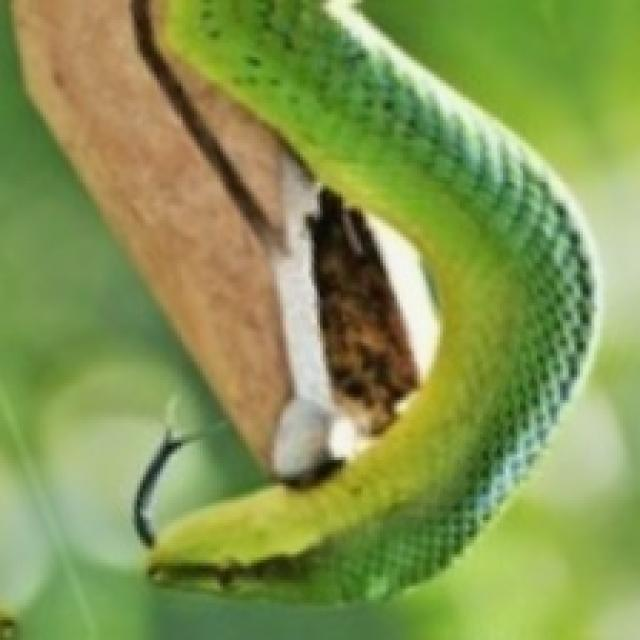red-tailed green ratsnake: (151, 0, 591, 597)
